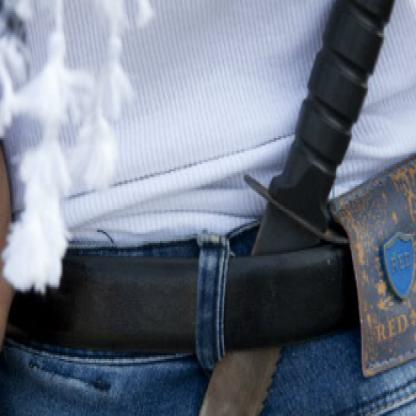knife: (128, 76, 370, 414)
